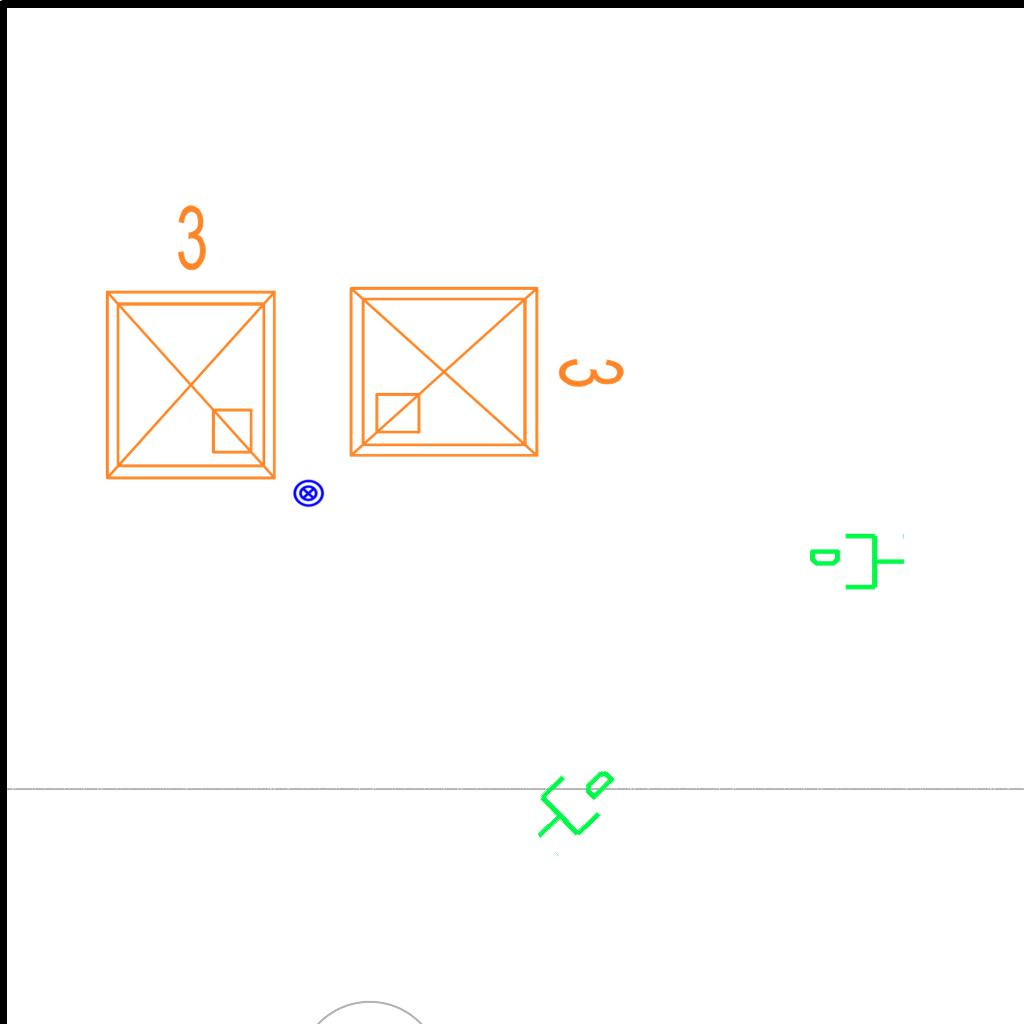Datenanschluss_einfach: (511, 742, 632, 862), (807, 529, 907, 598)
Einbaudownlights_LED_Konferenzraeume: (83, 194, 291, 494), (335, 264, 635, 472)
Taster_beleuchtet: (292, 477, 325, 510)
